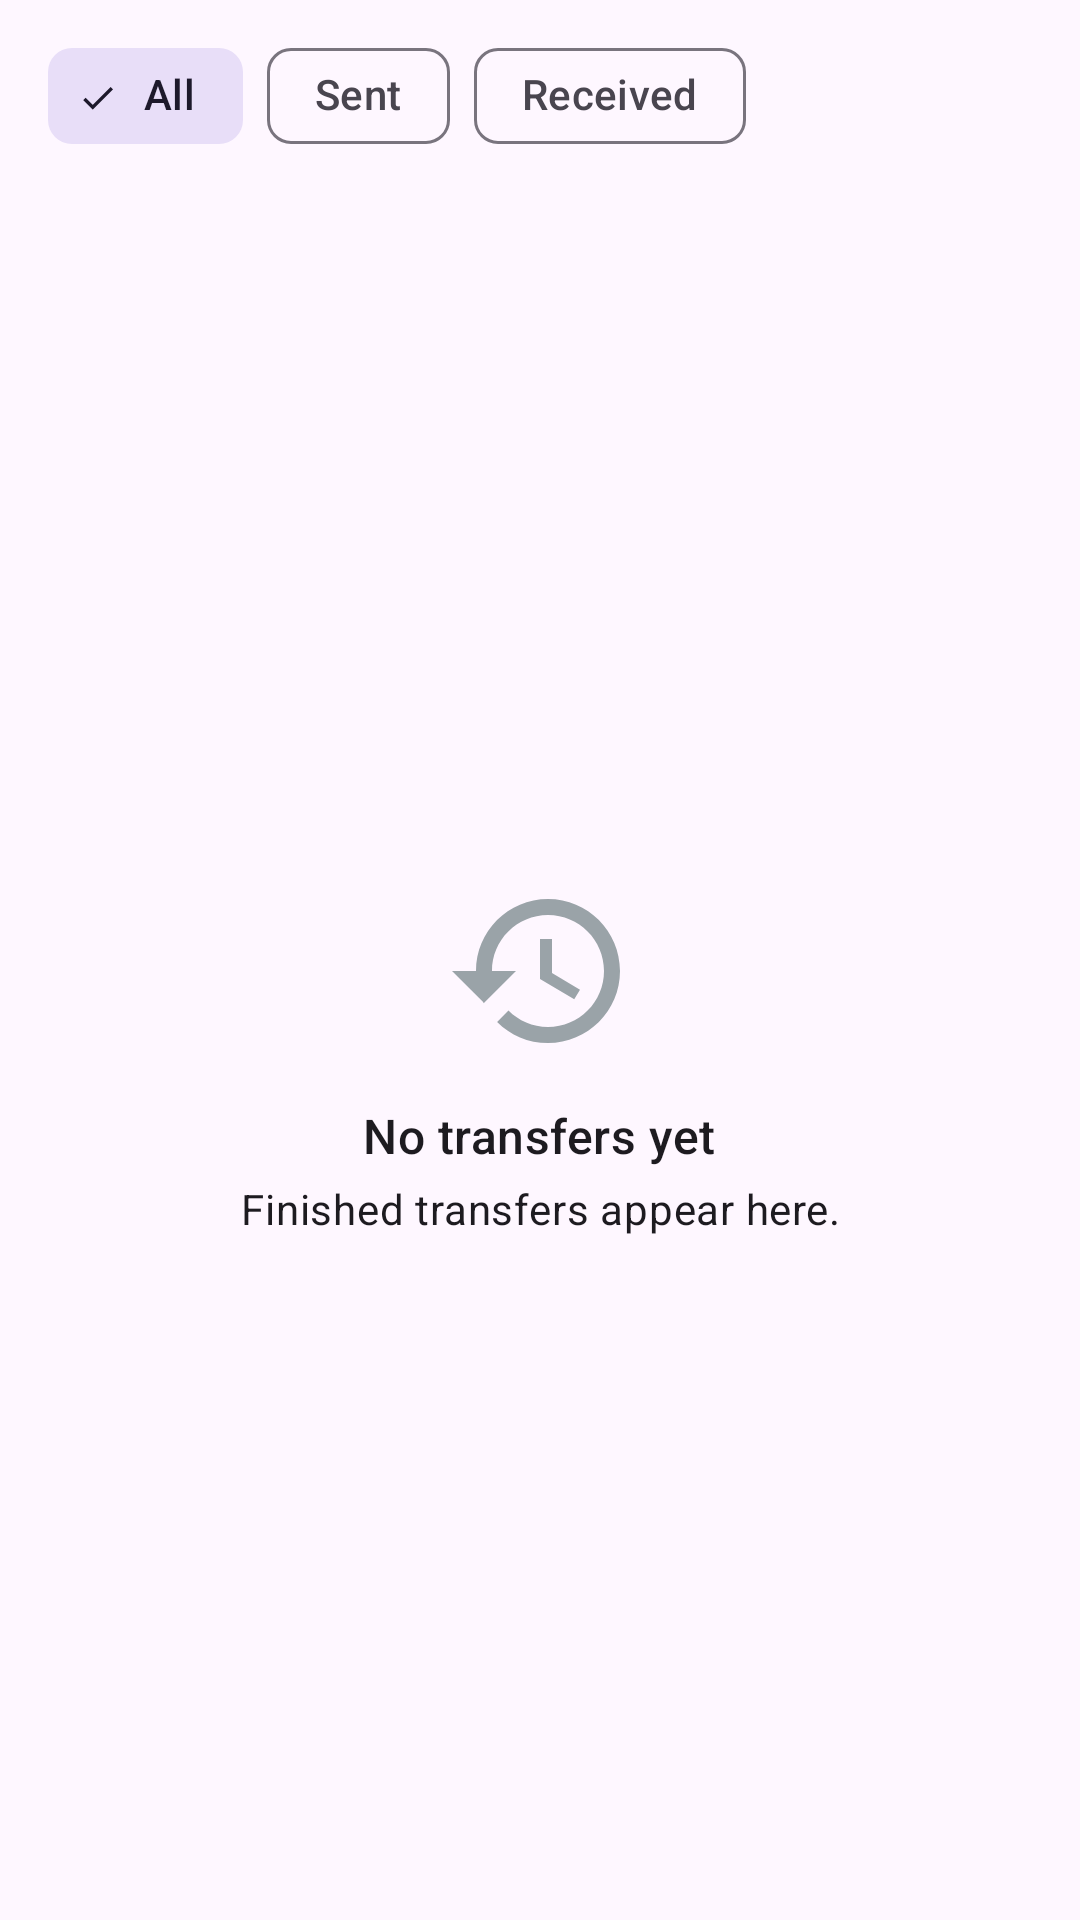

Screen size 1080 × 1920. Icon name, then its box in pixels as rect(x1, y1, x2, y2):
history: rect(452, 899, 620, 1043)
